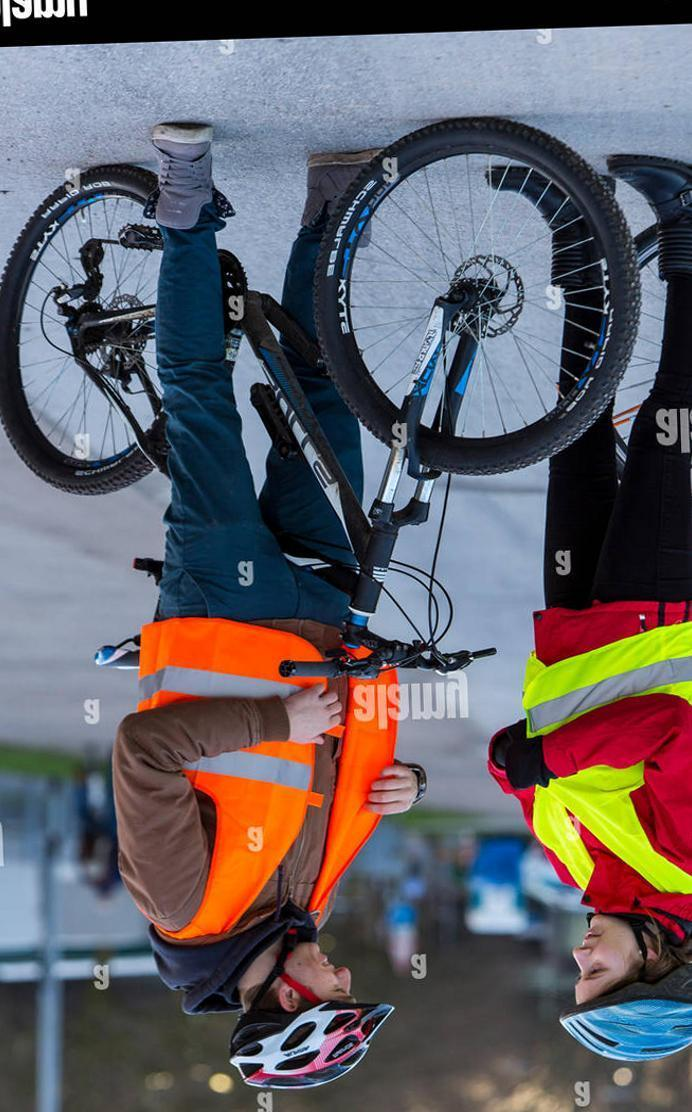Vest: (136, 634, 398, 916), (506, 626, 692, 912)
